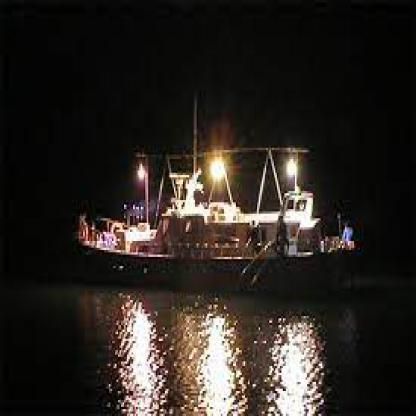fish-b: (68, 84, 362, 300)
